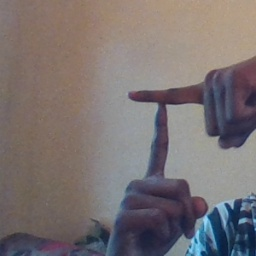T: (108, 71, 224, 195)
